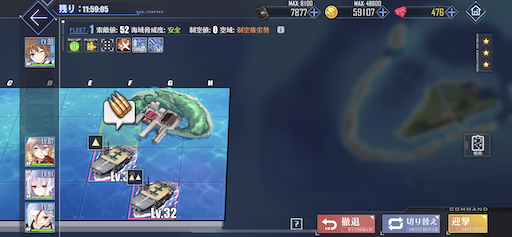lv1: (80, 128, 132, 184)
lv2: (123, 163, 182, 220)
